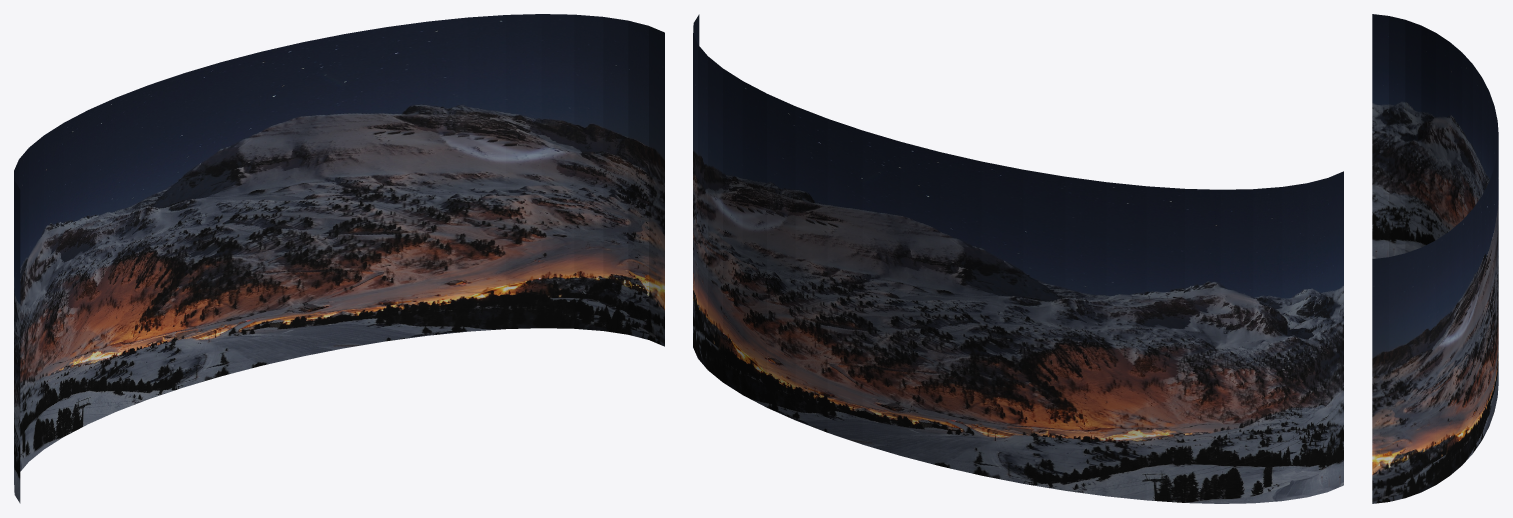
File: pantalla.fbx
The picture shows the model from 3 angles, left to right: view 1: azimuth 30°, elevation 25°; view 2: azimuth 150°, elevation 25°; view 3: azimuth 270°, elevation 25°; orthographic projection. The views are drawn at different scales.
Visible parts, largest first — view 1: Cylinder; view 2: Cylinder; view 3: Cylinder.
Part boxes in pixels (x1,y1,x2,y2): Cylinder: [14, 14, 664, 503]; Cylinder: [693, 14, 1343, 503]; Cylinder: [1372, 14, 1498, 503].
Bounding box in the file's own units: 429 × 200 × 93.72.
